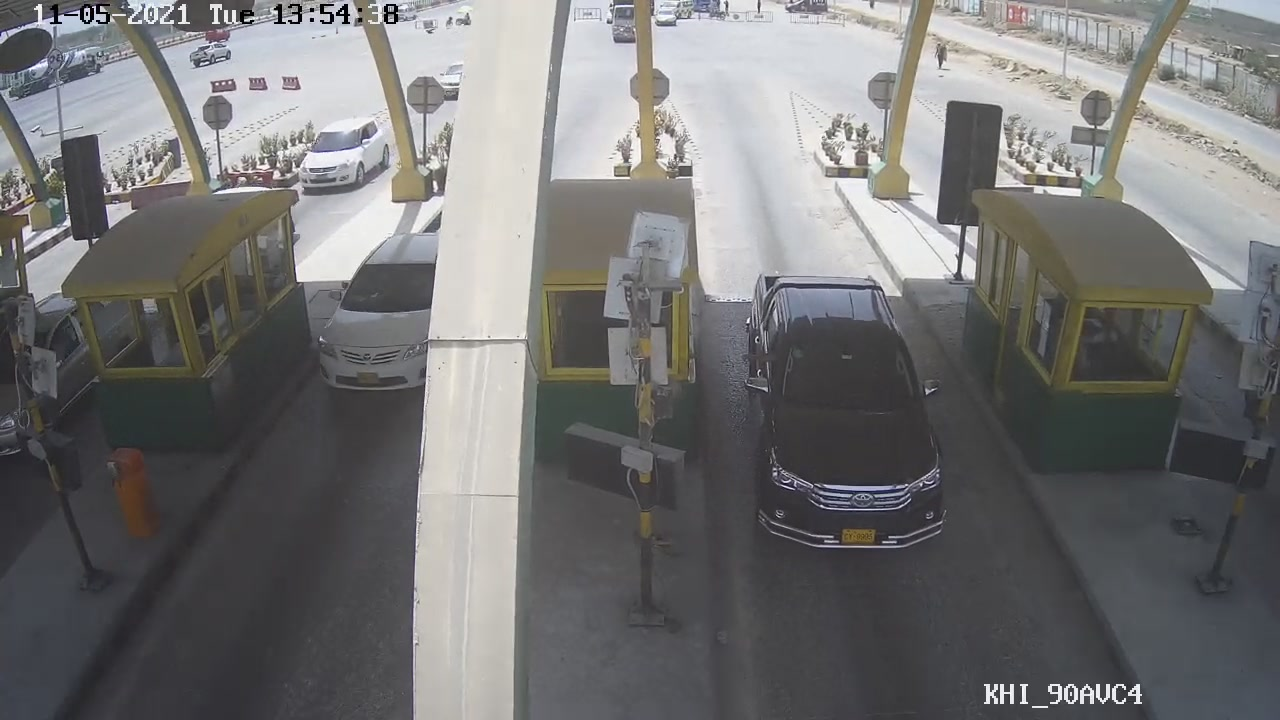F1: (737, 266, 956, 559)
